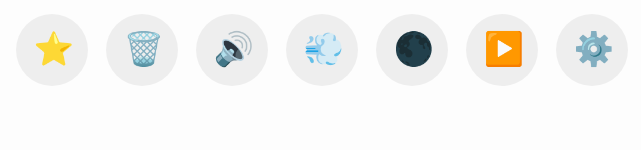
Scenario: DoodleCanvas › trails toggle button flips its label and persists the preference
Click the button named "Disable trails": click(322, 50) [286, 14, 358, 86]
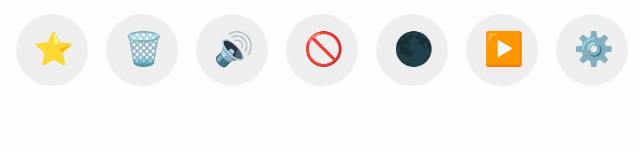
expect the button named "Enable trails" is shown: met, box [286, 14, 358, 86]
